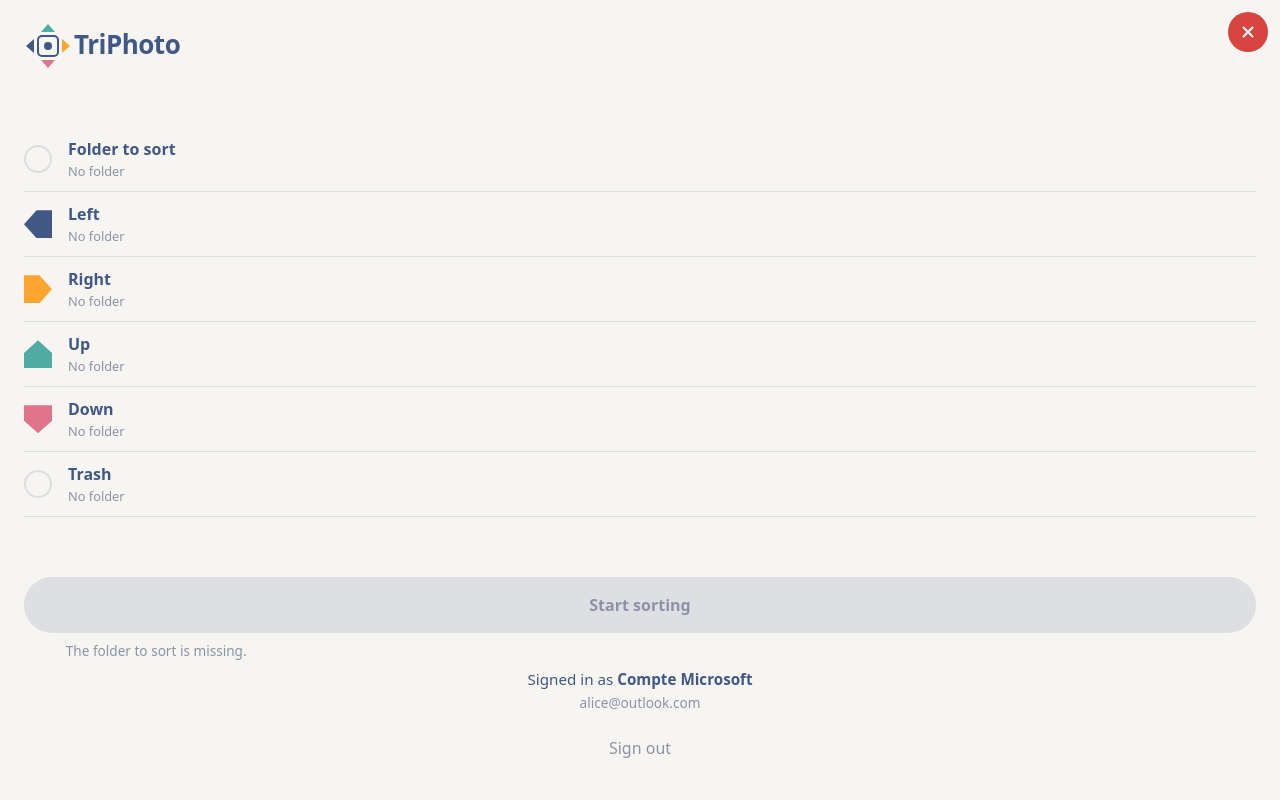
bouton Exit › prévient quand le navigateur refuse de fermer l’onglet
Click the button named "Exit" at point(1248, 32), box [1228,12,1268,52]
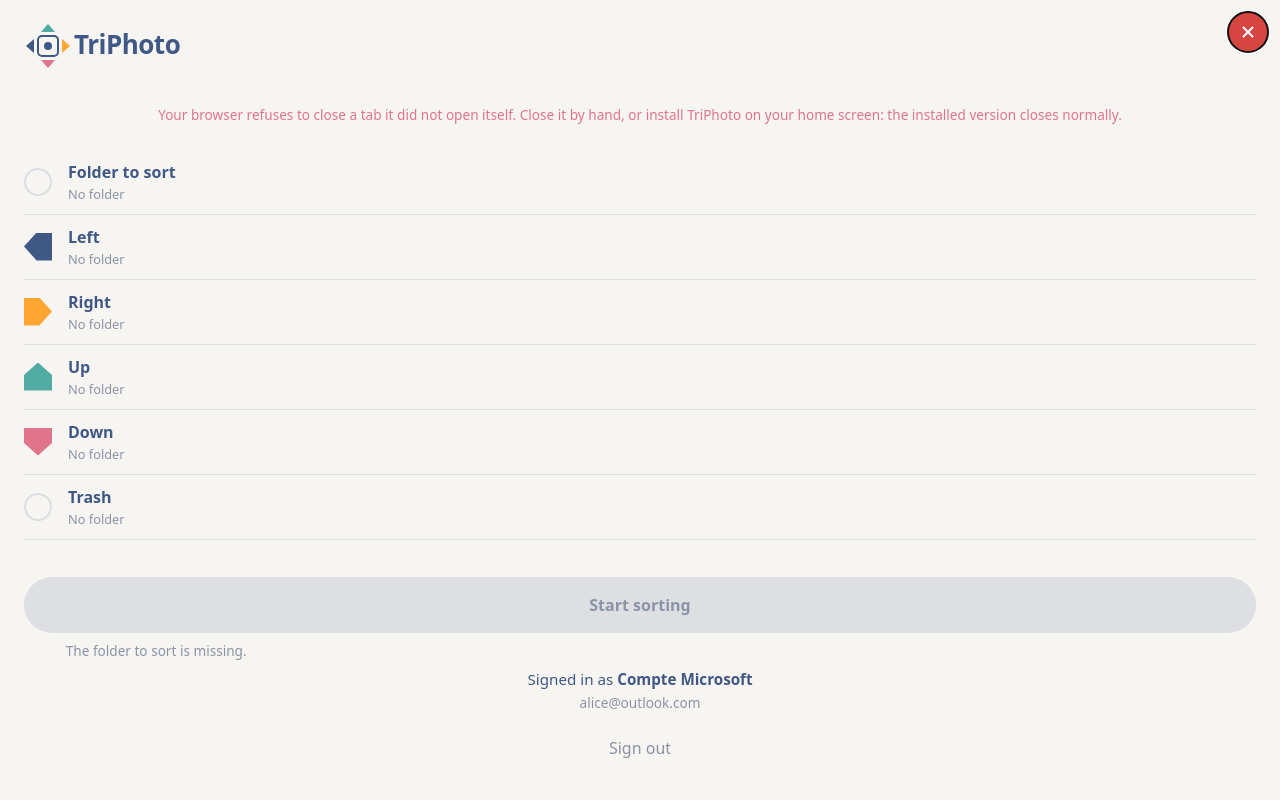
expect the text "refuses to close a tab" is shown: met, box [158,105,1122,124]
